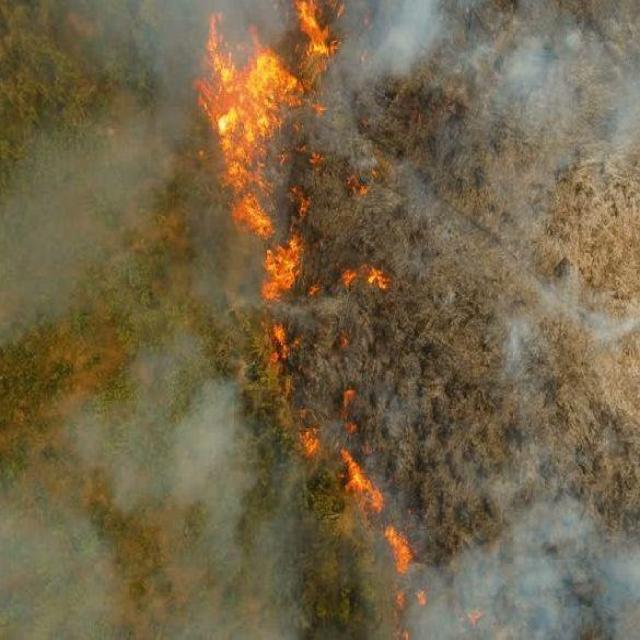Fire: (194, 17, 299, 239), (270, 324, 343, 464), (320, 439, 398, 522), (264, 238, 300, 300), (233, 195, 272, 237), (387, 525, 412, 573)
Smoke: (0, 359, 260, 640), (0, 116, 164, 320), (477, 489, 640, 639), (377, 0, 534, 86)
